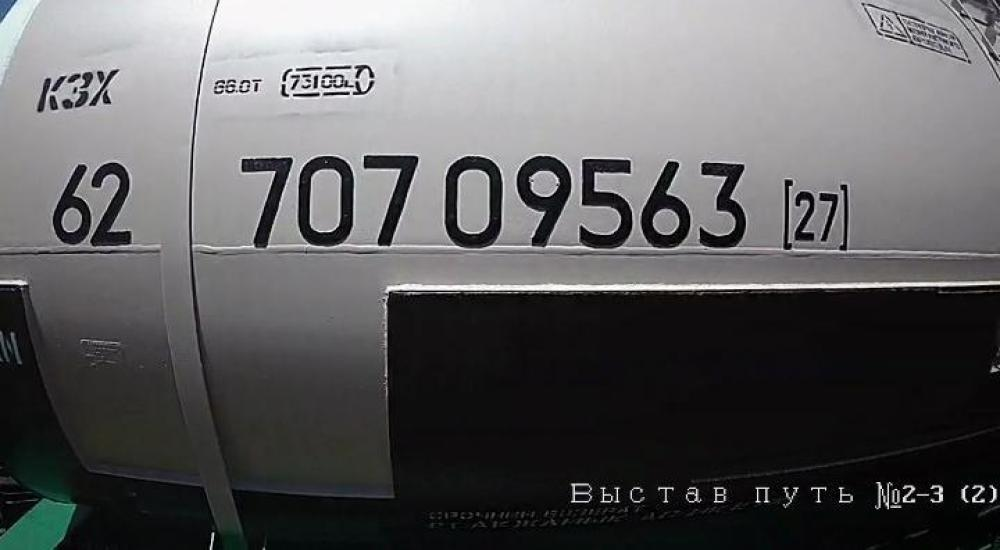Wagon-number: (232, 148, 756, 249)
